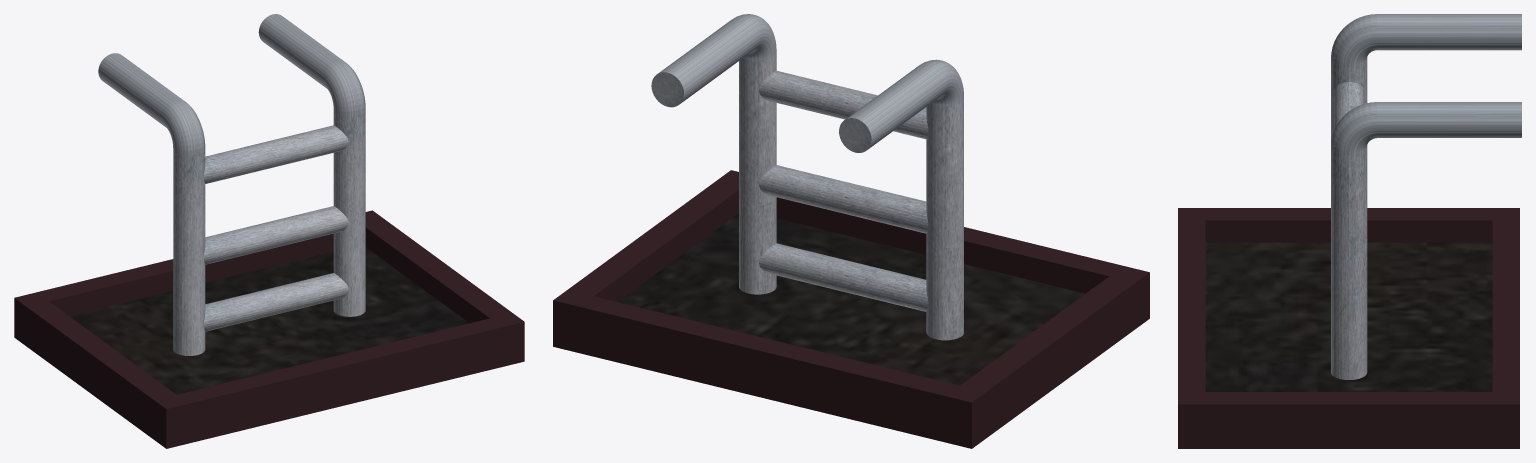
File: escalera2.obj
3 renders of one model, left to right at view 1: azimuth 30°, elevation 25°; view 2: azimuth 150°, elevation 25°; view 3: azimuth 270°, elevation 25°, orthographic. The views are drawn at different scales.
Parts seen in each view (by area): view 1: Cube, Cylinder.004, Cylinder.002, Cylinder.005, Cylinder.003, Cylinder.001; view 2: Cube, Cylinder.004, Cylinder.002, Cylinder.001, Cylinder.003, Cylinder.005; view 3: Cube, Cylinder.002, Cylinder.004, Cylinder.005.
Boxes of the visible parts, x1=… form: Cube: x1=14, y1=210, x2=524, y2=448; Cylinder.004: x1=98, y1=53, x2=205, y2=355; Cylinder.002: x1=258, y1=14, x2=365, y2=316; Cylinder.005: x1=203, y1=125, x2=348, y2=183; Cylinder.003: x1=203, y1=273, x2=348, y2=331; Cylinder.001: x1=203, y1=206, x2=348, y2=264; Cube: x1=553, y1=170, x2=1149, y2=448; Cylinder.004: x1=839, y1=59, x2=963, y2=340; Cylinder.002: x1=651, y1=14, x2=776, y2=294; Cylinder.001: x1=759, y1=165, x2=928, y2=233; Cylinder.003: x1=759, y1=243, x2=928, y2=311; Cylinder.005: x1=759, y1=70, x2=928, y2=139; Cube: x1=1178, y1=208, x2=1519, y2=448; Cylinder.002: x1=1331, y1=102, x2=1521, y2=379; Cylinder.004: x1=1331, y1=14, x2=1521, y2=142; Cylinder.005: x1=1334, y1=82, x2=1364, y2=129.
Size of the model in its own units: 6.41 by 4.43 by 4.74.
7 materials, 7 textured.
